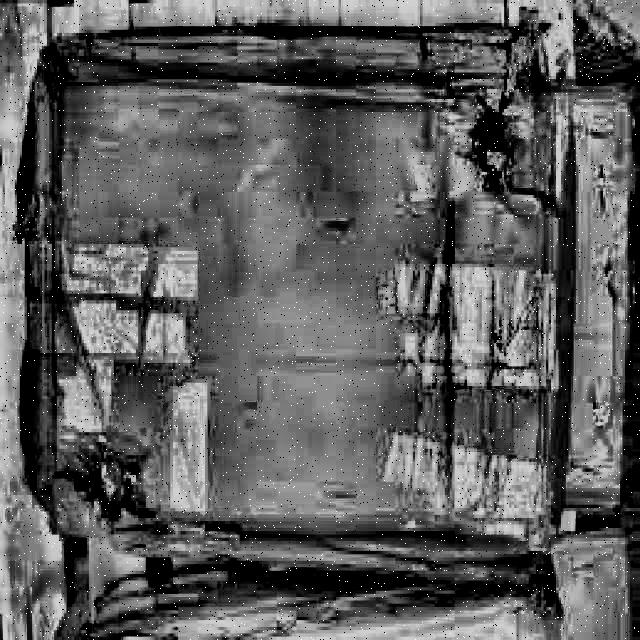box: (2, 9, 587, 589)
hole: (66, 440, 156, 530), (466, 96, 530, 210)
